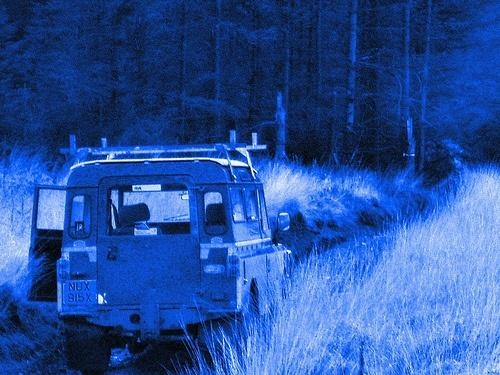car: (28, 132, 295, 372)
